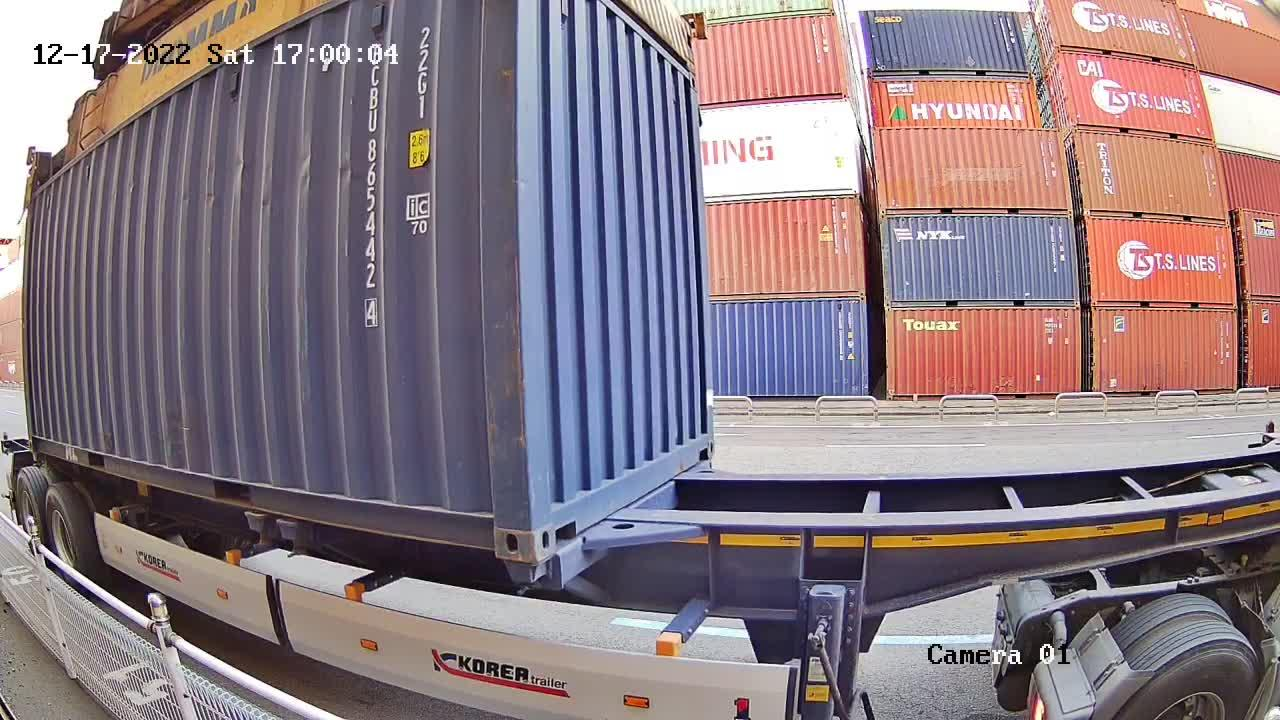Chassis: (538, 458, 725, 589)
Cone: (503, 559, 542, 598)
Container: (527, 413, 721, 564)
Hole_L: (527, 466, 575, 568)
Hole_R: (447, 475, 536, 564), (693, 413, 718, 469)
Tire: (1115, 639, 1259, 719), (44, 487, 82, 571)
